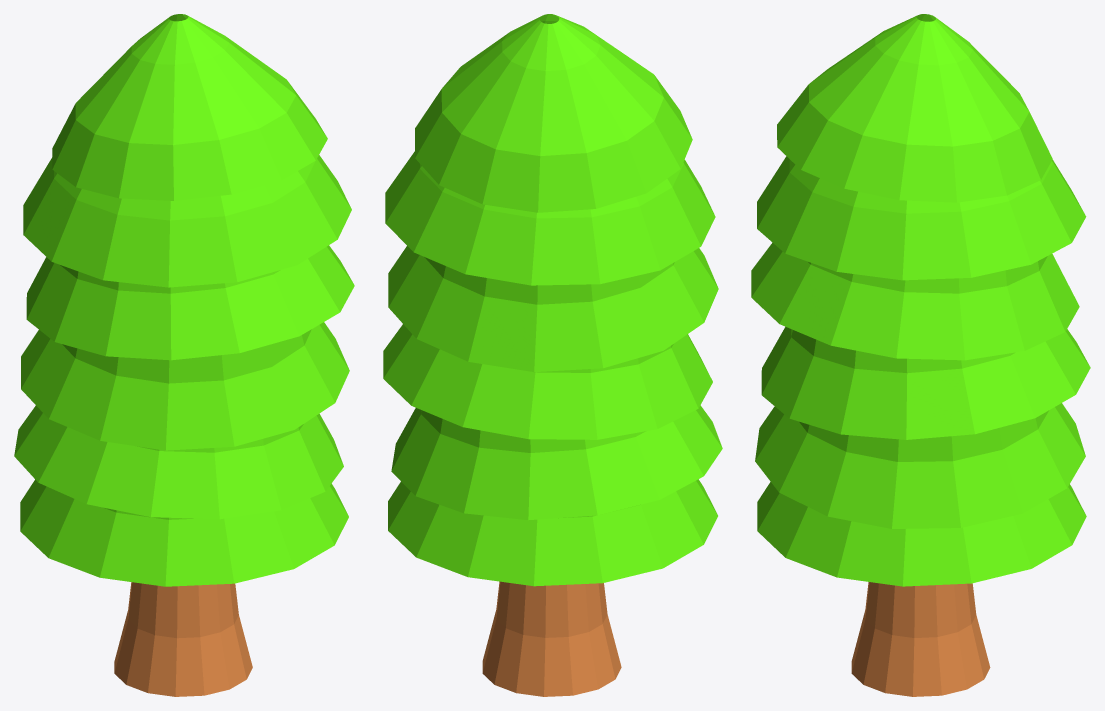
File: Tree1.fbx
The picture shows the model from 3 angles, left to right: view 1: azimuth 30°, elevation 25°; view 2: azimuth 150°, elevation 25°; view 3: azimuth 270°, elevation 25°; orthographic projection.
Visible parts, largest first — view 1: Cylinder.006, Cylinder.003, Cylinder.005, Cylinder.004, Cylinder.002, Cylinder.001, Cylinder; view 2: Cylinder.006, Cylinder.004, Cylinder.005, Cylinder.002, Cylinder.003, Cylinder.001, Cylinder; view 3: Cylinder.006, Cylinder.002, Cylinder.005, Cylinder.003, Cylinder.004, Cylinder.001, Cylinder.
Boxes of the visible parts, x1=… form: Cylinder.006: x1=52, y1=14, x2=327, y2=200; Cylinder.003: x1=21, y1=322, x2=349, y2=450; Cylinder.005: x1=23, y1=155, x2=351, y2=287; Cylinder.004: x1=26, y1=245, x2=354, y2=360; Cylinder.002: x1=14, y1=405, x2=343, y2=519; Cylinder.001: x1=20, y1=479, x2=348, y2=586; Cylinder: x1=114, y1=582, x2=252, y2=696; Cylinder.006: x1=415, y1=14, x2=692, y2=212; Cylinder.004: x1=388, y1=246, x2=718, y2=372; Cylinder.005: x1=385, y1=151, x2=715, y2=285; Cylinder.002: x1=391, y1=405, x2=722, y2=520; Cylinder.003: x1=383, y1=324, x2=712, y2=439; Cylinder.001: x1=388, y1=479, x2=717, y2=586; Cylinder: x1=482, y1=581, x2=621, y2=696; Cylinder.006: x1=777, y1=14, x2=1052, y2=202; Cylinder.002: x1=755, y1=403, x2=1085, y2=528; Cylinder.005: x1=757, y1=156, x2=1086, y2=280; Cylinder.003: x1=761, y1=326, x2=1090, y2=439; Cylinder.004: x1=751, y1=242, x2=1079, y2=360; Cylinder.001: x1=757, y1=482, x2=1086, y2=586; Cylinder: x1=851, y1=582, x2=990, y2=696.
Bounding box in the file's own units: 3.87 × 8.18 × 3.88.
